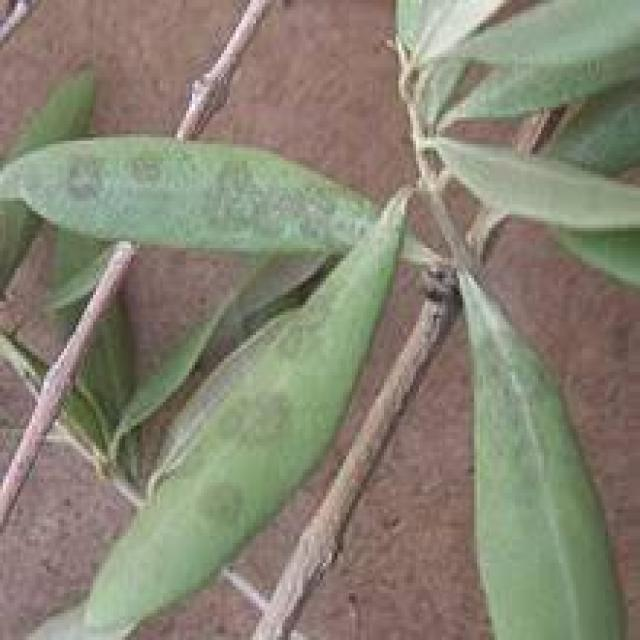OlivePeacockSpot: (47, 198, 404, 636), (15, 137, 372, 238)
